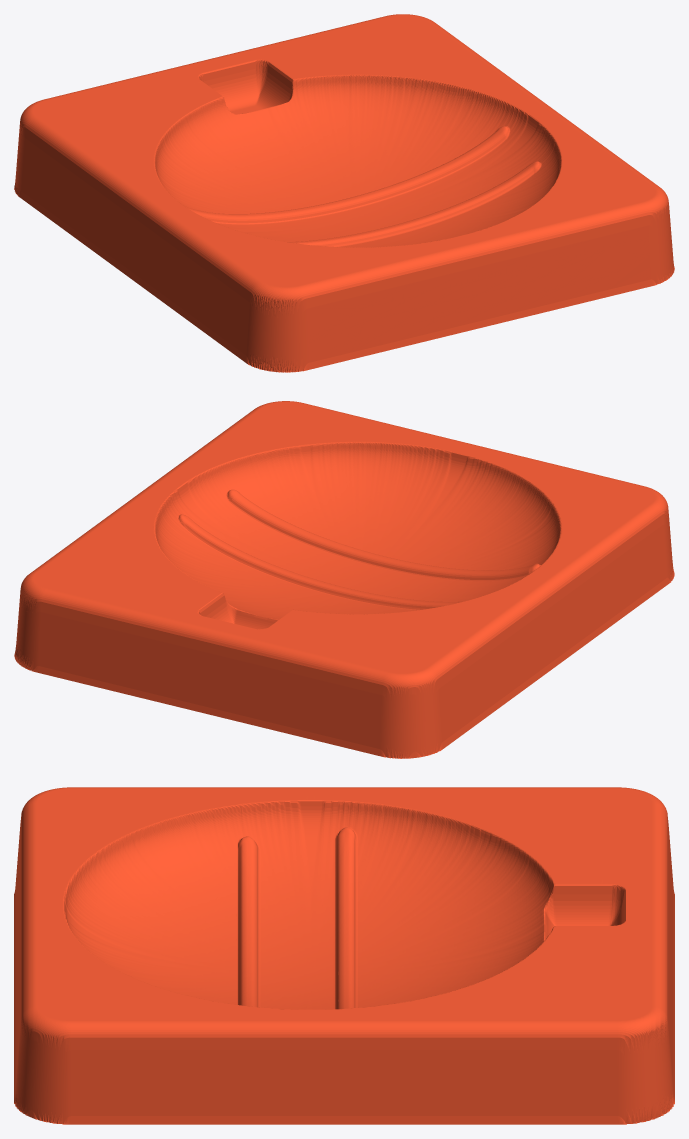
File: mold.glb
3 renders of one model, top to bottom at view 1: azimuth 30°, elevation 25°; view 2: azimuth 150°, elevation 25°; view 3: azimuth 270°, elevation 25°, orthographic. The views are drawn at different scales.
Parts seen in each view (by area): view 1: geometry_0; view 2: geometry_0; view 3: geometry_0.
Boxes of the visible parts, bbox=[...] form: geometry_0: bbox=[14, 14, 674, 372]; geometry_0: bbox=[14, 401, 674, 758]; geometry_0: bbox=[14, 787, 674, 1124].
Bounding box in the file's own units: 0.0944 × 0.0165 × 0.105.
